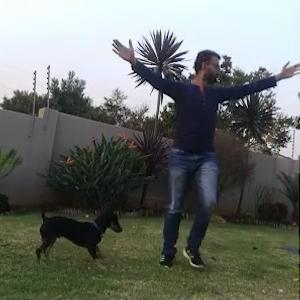takeoff: (112, 40, 291, 269)
